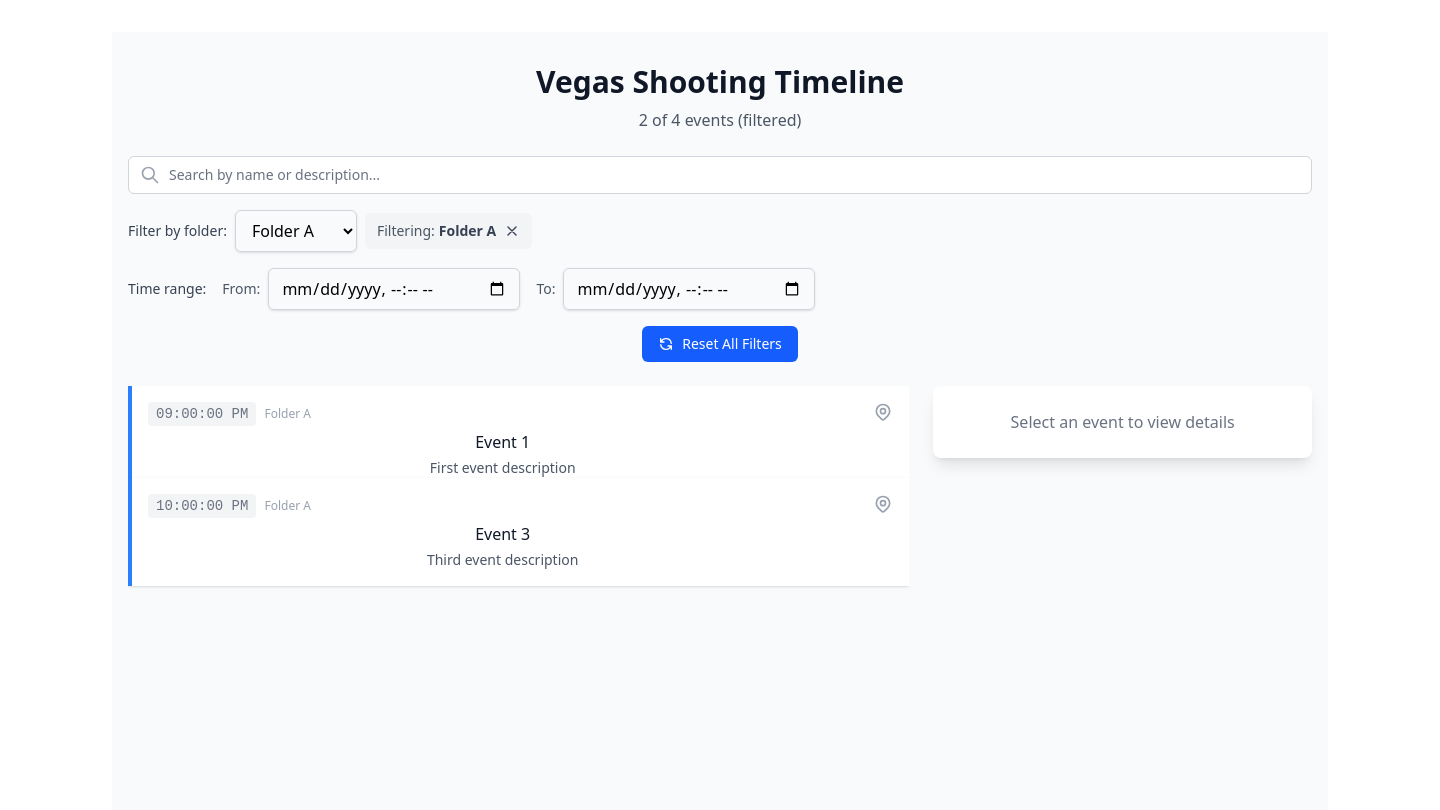
Timeline - Filter Reset Integration › clears folder filter when reset button is clicked
Expected: the text "2 of 4 events (filtered)" is shown, [639,109,801,131]
Expected: the heading "Event 1" is shown, [475,431,530,453]
// Click reset button
Click the button "Reset All Filters": x=720, y=344 [642,326,798,362]
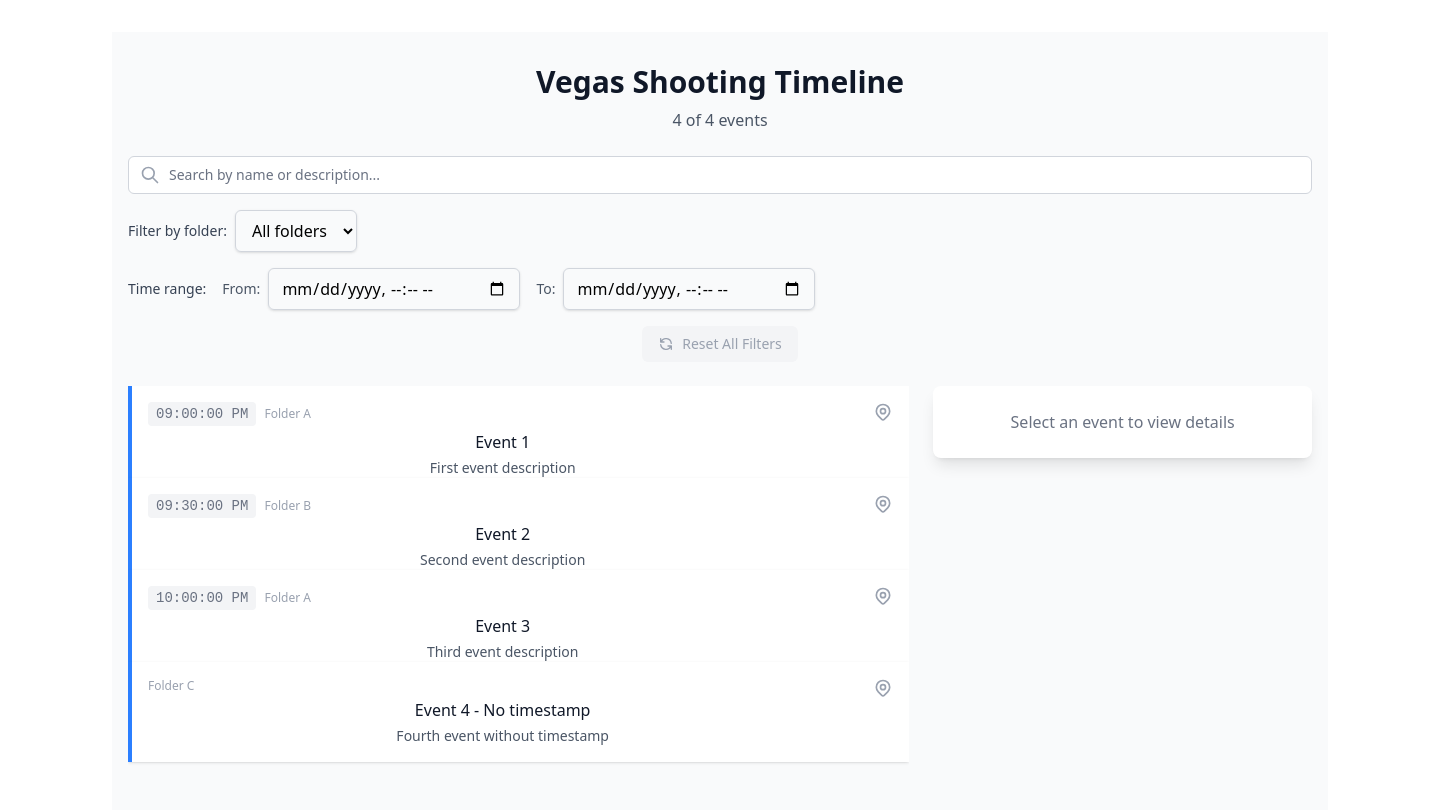
Result: the text "4 of 4 events" is shown at [672,109,768,131]
Result: the heading "Event 2" is shown at [475,523,530,545]
Result: the heading "Event 4 - No timestamp" is shown at [415,699,590,721]
